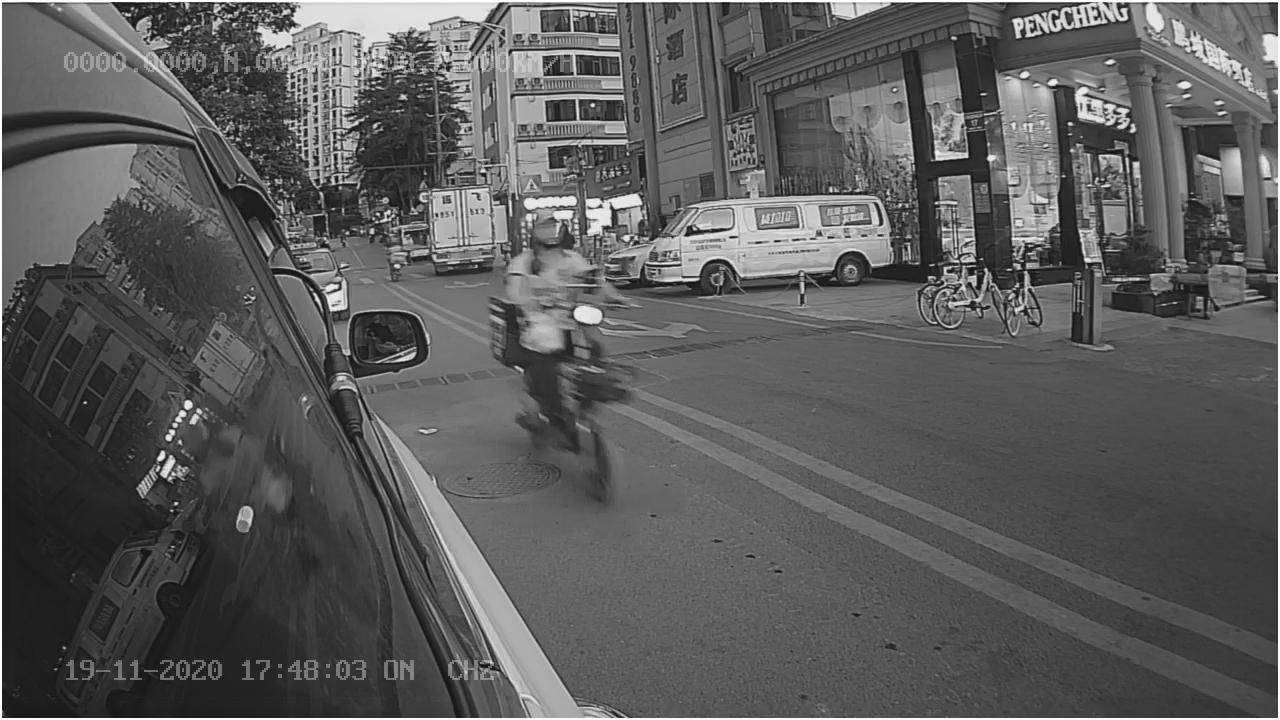person: (506, 207, 584, 336)
